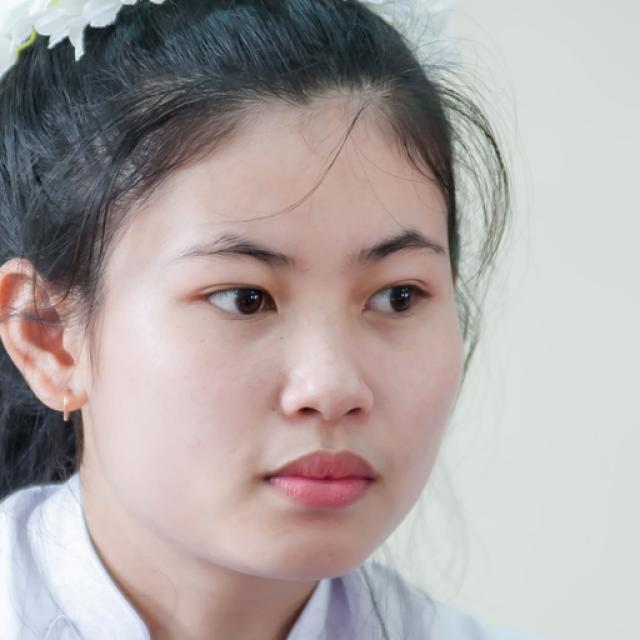neutral: (94, 98, 466, 578)
